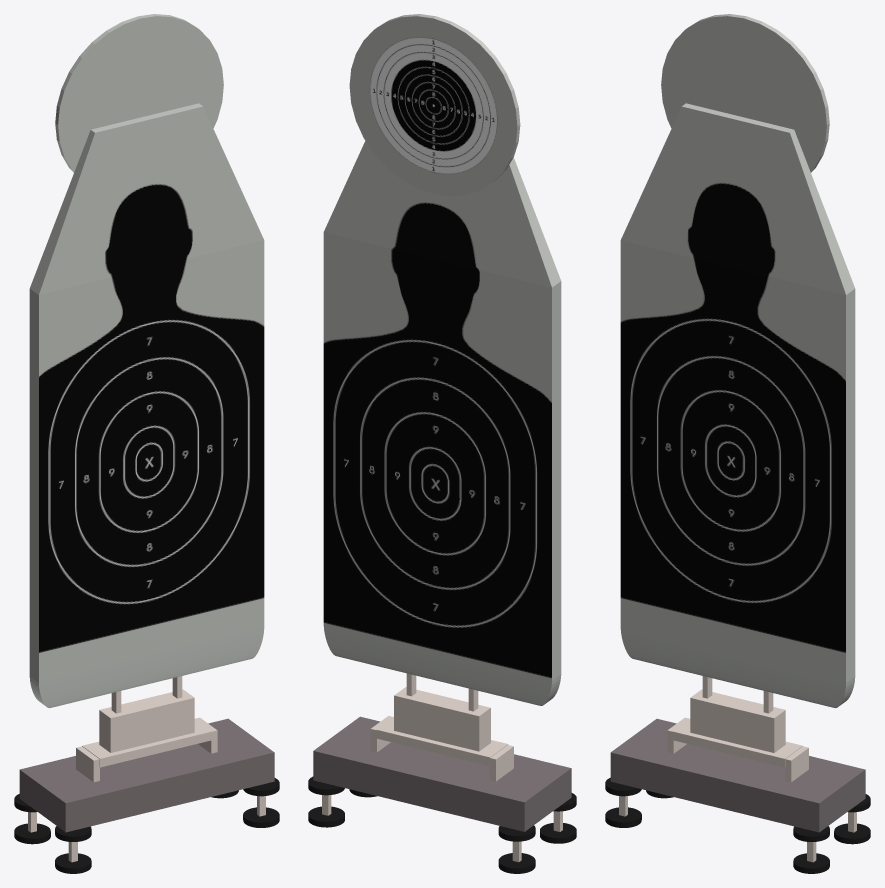
File: Target.fbx
The picture shows the model from 3 angles, left to right: view 1: azimuth 30°, elevation 25°; view 2: azimuth 150°, elevation 25°; view 3: azimuth 330°, elevation 25°; orthographic projection.
Parts seen in each view (by area): view 1: Body, TargetBase; view 2: Body, TargetBase; view 3: Body, TargetBase.
Part boxes in pixels (<box>): Body: <box>29,14,264,782</box>; TargetBase: <box>14,718,279,873</box>; Body: <box>323,14,561,781</box>; TargetBase: <box>308,716,576,873</box>; Body: <box>620,14,855,782</box>; TargetBase: <box>605,718,870,873</box>.
Bounding box in the file's own units: 0.9591 × 3.28 × 0.4345.
